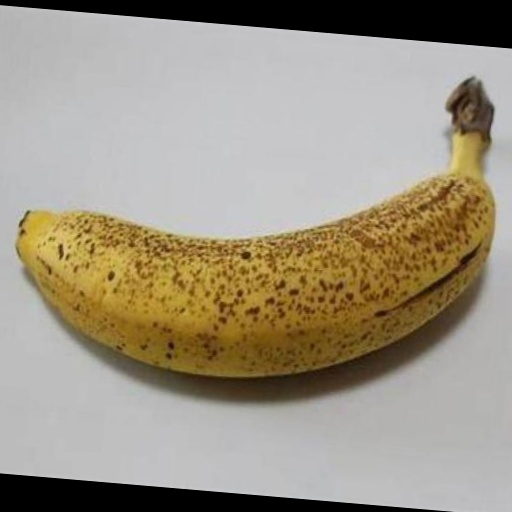fruit: (17, 78, 494, 376)
